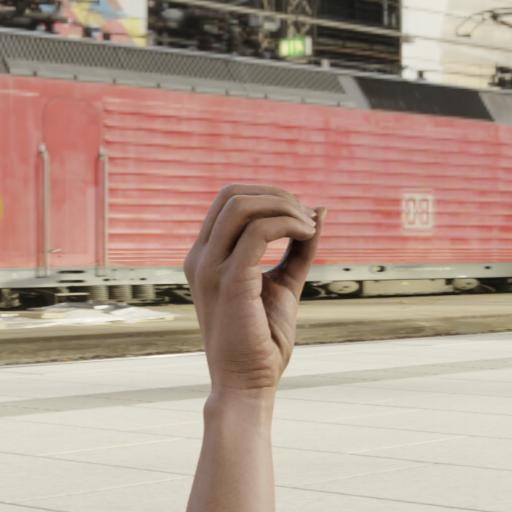O: (173, 154, 348, 408)
